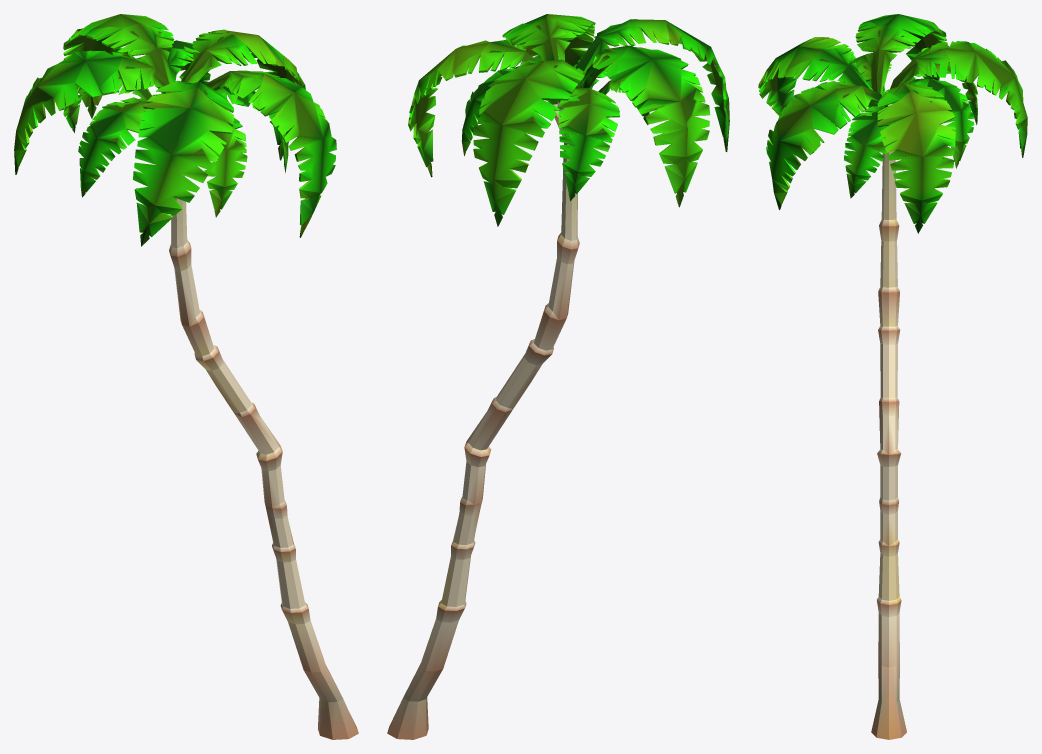
Rendered from palm3.fbx.
3 renders of one model, left to right at view 1: azimuth 30°, elevation 25°; view 2: azimuth 150°, elevation 25°; view 3: azimuth 270°, elevation 25°, orthographic. The views are drawn at different scales.
Visible parts, largest first — view 1: palm3_LOD0; view 2: palm3_LOD0; view 3: palm3_LOD0.
Part boxes in pixels (left/top/right/bottom): palm3_LOD0: left=14, top=14, right=358, bottom=739; palm3_LOD0: left=387, top=14, right=729, bottom=739; palm3_LOD0: left=758, top=14, right=1027, bottom=739.
Size of what is drawn, in the model's own units: 6.17 by 13.37 by 5.29.
